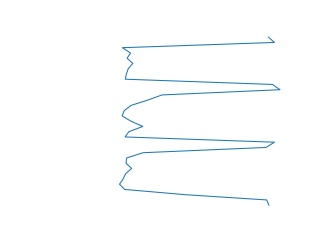majorRiverChannelBar: (117, 34, 282, 208)
